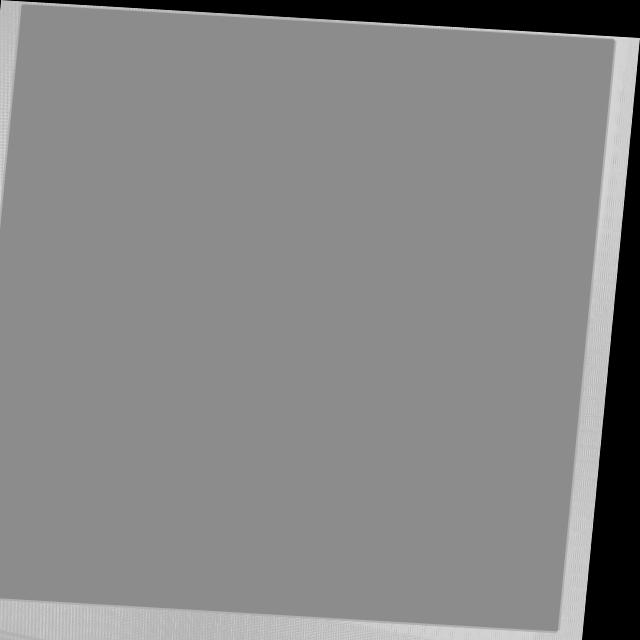qr_code: (0, 4, 614, 624)
